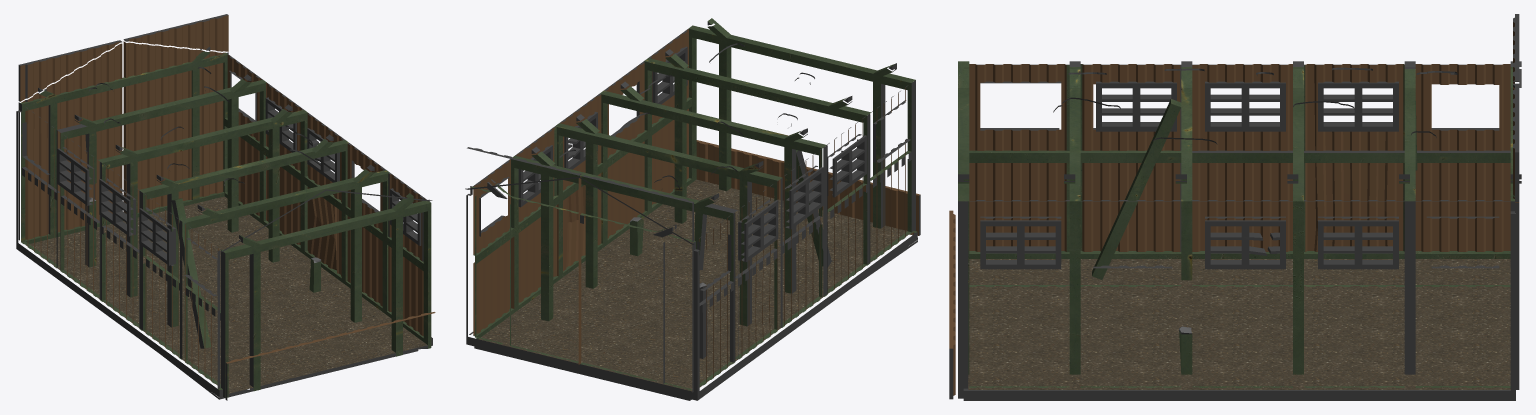
The model's file is galpao_estrutura.glb.
3 views of the same model, side by side, from view 1: azimuth 30°, elevation 25°; view 2: azimuth 150°, elevation 25°; view 3: azimuth 270°, elevation 25° (orthographic). The views are drawn at different scales.
Parts seen in each view (by area): view 1: group_0_10988977.001, Plane; view 2: group_0_10988977.001, Plane; view 3: group_0_10988977.001, Plane.
Part boxes in pixels (left/top/right/bottom): group_0_10988977.001: left=16, top=14, right=435, bottom=400; Plane: left=26, top=196, right=427, bottom=393; group_0_10988977.001: left=465, top=18, right=920, bottom=400; Plane: left=478, top=179, right=908, bottom=391; group_0_10988977.001: left=949, top=14, right=1521, bottom=400; Plane: left=968, top=259, right=1510, bottom=389.
Size of the model in its own units: 60.53 by 49.5 by 103.
6 materials, 3 textured.
